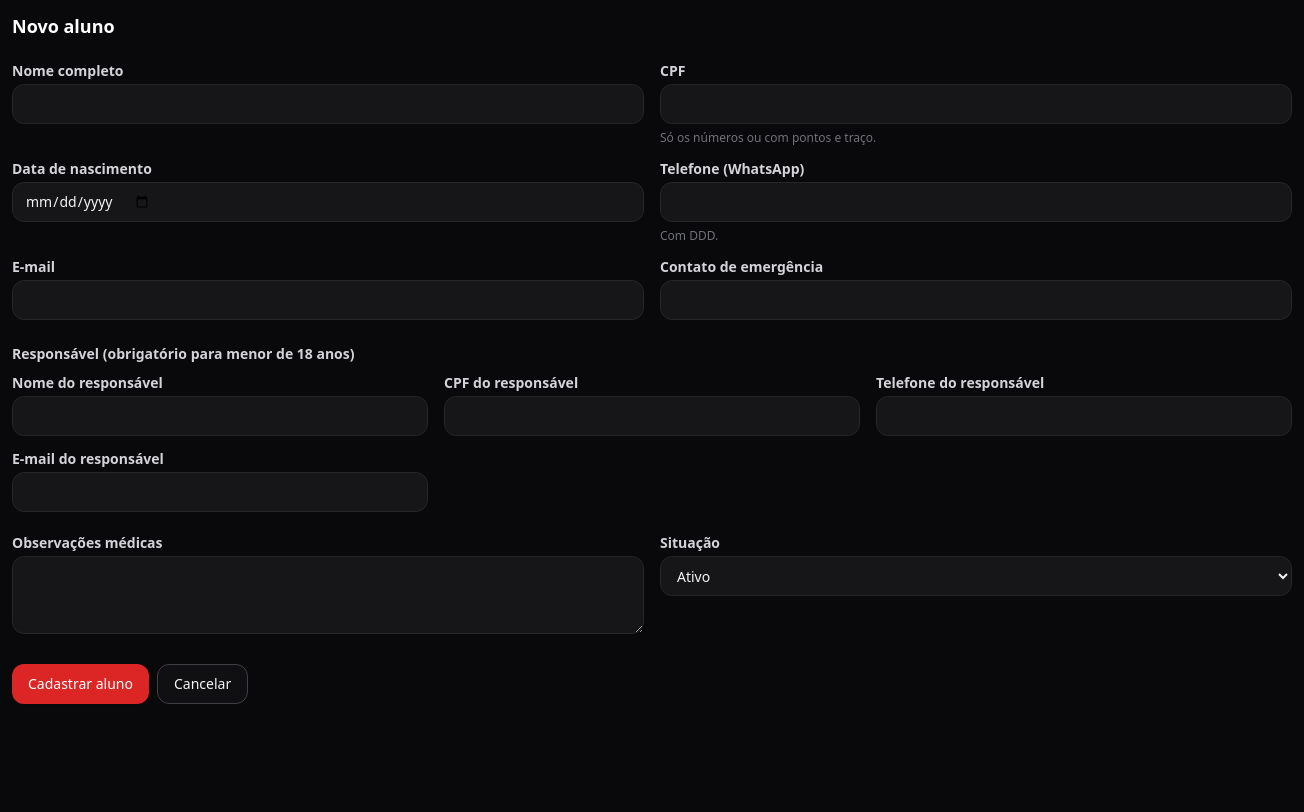
it: Painel: alunos › cadastro e edição › CPF duplicado (e outros erros do banco) aparece no formulário
Type "Ana Souza" into the field labelled "Nome completo" at [328, 104], box [12,84,644,124]
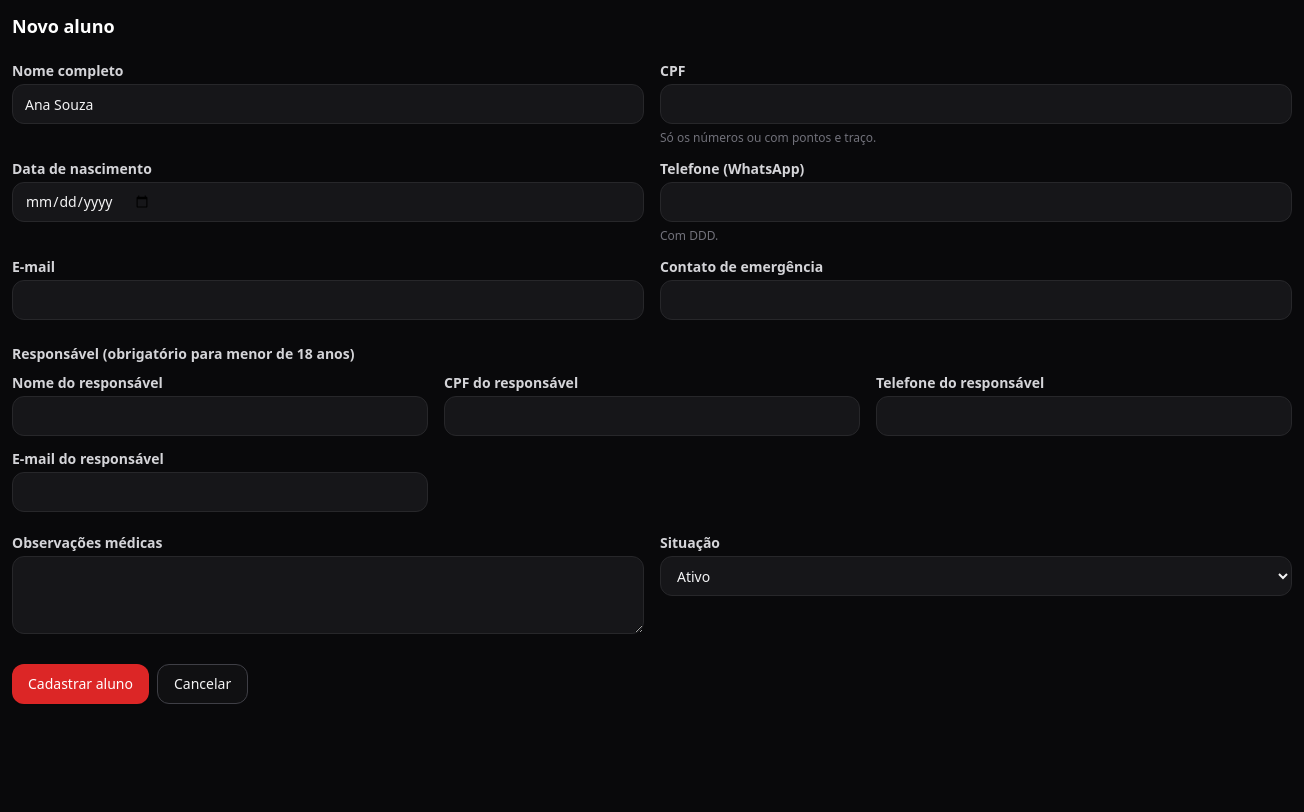
Click the button "Cadastrar aluno" at [80, 684], box [12,664,149,704]
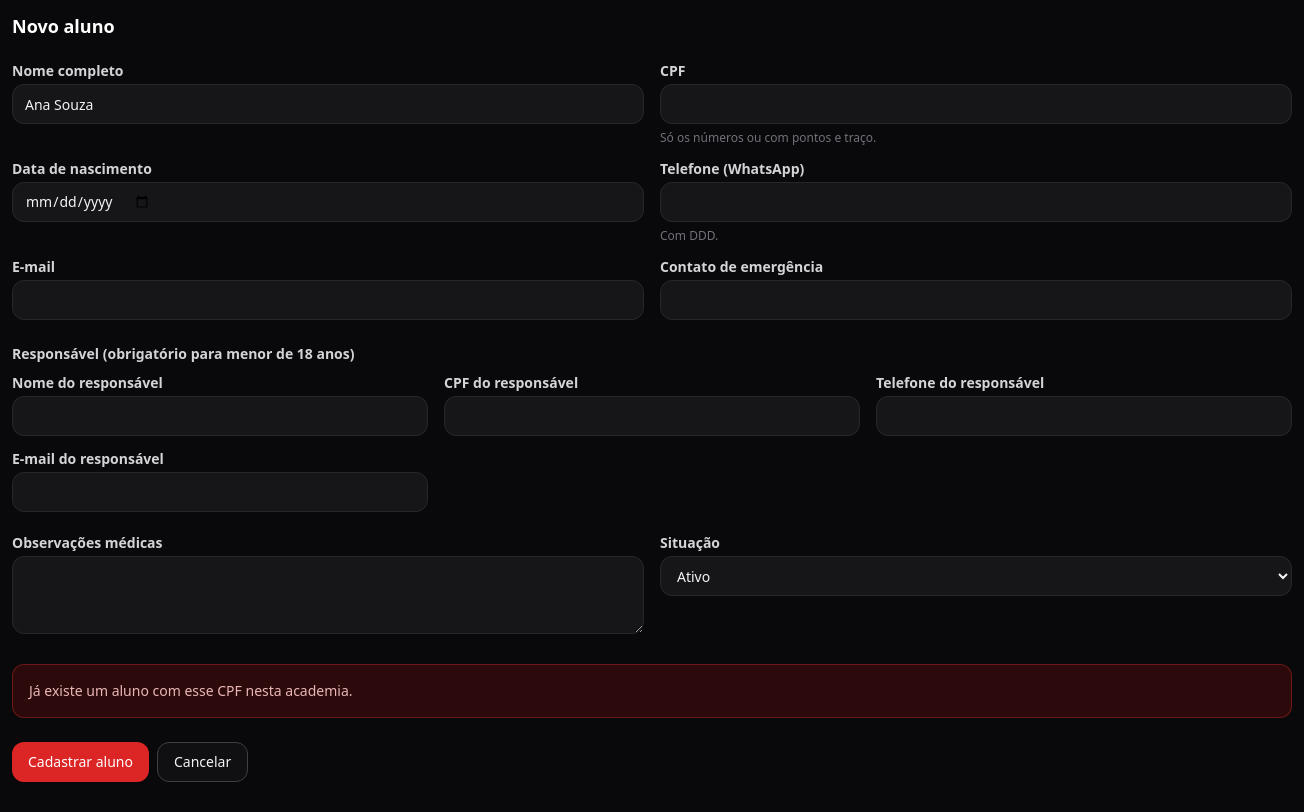
Expected: the message reads "Já existe um aluno com esse CPF nesta academia.", [29,681,352,700]
